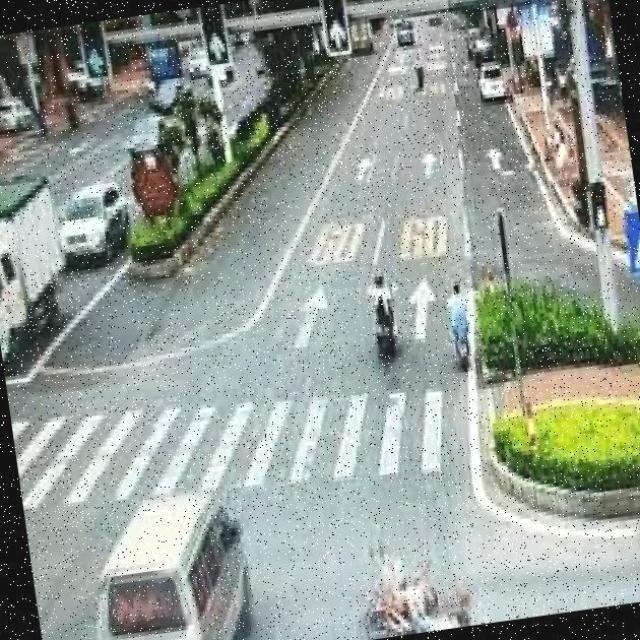accident: (327, 481, 493, 640)
